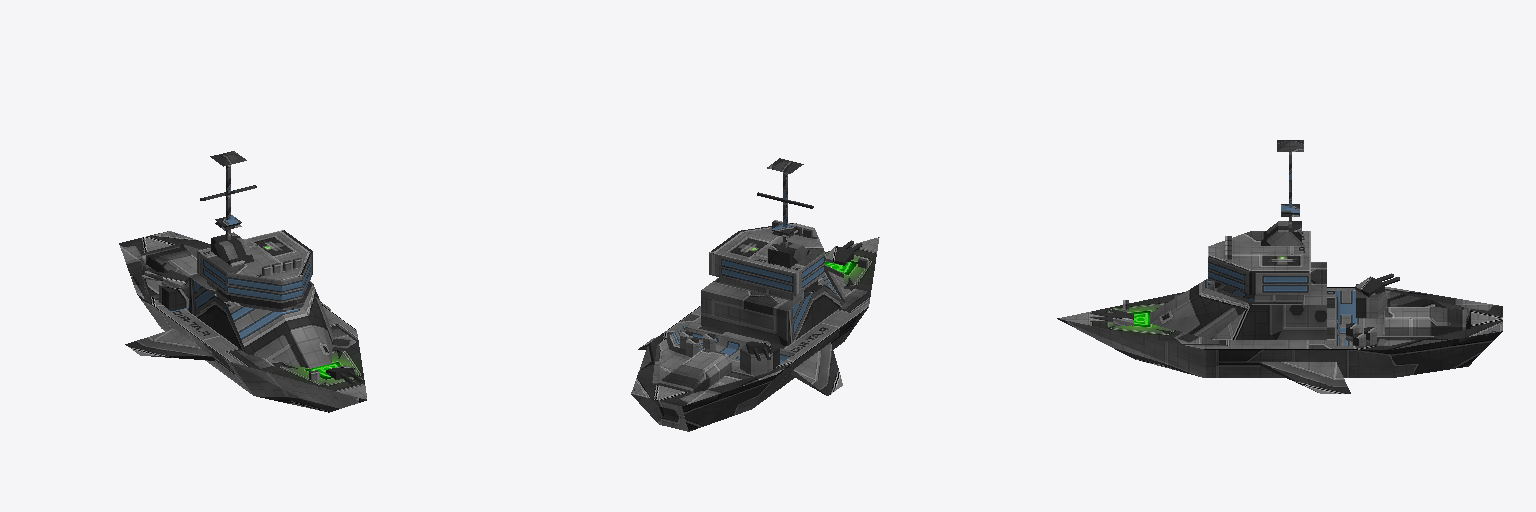
The picture shows the model from 3 angles: view 1: azimuth 30°, elevation 25°; view 2: azimuth 150°, elevation 25°; view 3: azimuth 270°, elevation 25°; orthographic projection.
Parts seen in each view (by area): view 1: Patrol; view 2: Patrol; view 3: Patrol.
Part boxes in pixels (x1,y1,x2,y2): Patrol: (119, 151, 366, 412); Patrol: (631, 158, 879, 431); Patrol: (1057, 140, 1502, 393).
Size of the model in its own units: 0.9668 by 1 by 1.96.
1 materials, 1 textured.